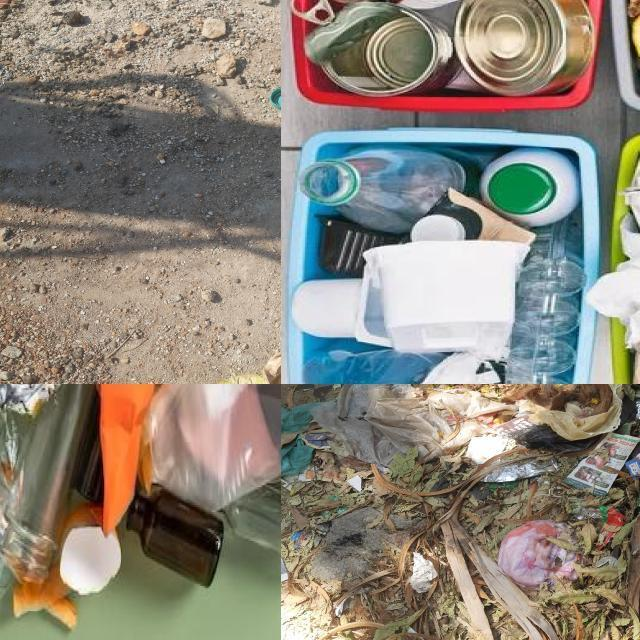Garbage: (281, 0, 640, 384), (281, 384, 640, 640), (0, 384, 281, 640)
Metal: (291, 0, 595, 96), (2, 384, 95, 581)
Plastic: (289, 129, 599, 384), (269, 87, 281, 110)
Plastic_Bag: (312, 384, 517, 465), (493, 384, 640, 452), (497, 520, 580, 590), (575, 508, 602, 520)
Plastic_Straw: (568, 497, 585, 501), (539, 493, 551, 496), (553, 495, 561, 498)
Plastic_wraper: (481, 460, 558, 483), (602, 508, 626, 527), (598, 531, 616, 550), (600, 506, 609, 512), (602, 528, 606, 533)
contaminated_waste: (290, 121, 605, 384), (291, 0, 606, 115), (128, 384, 281, 591)
